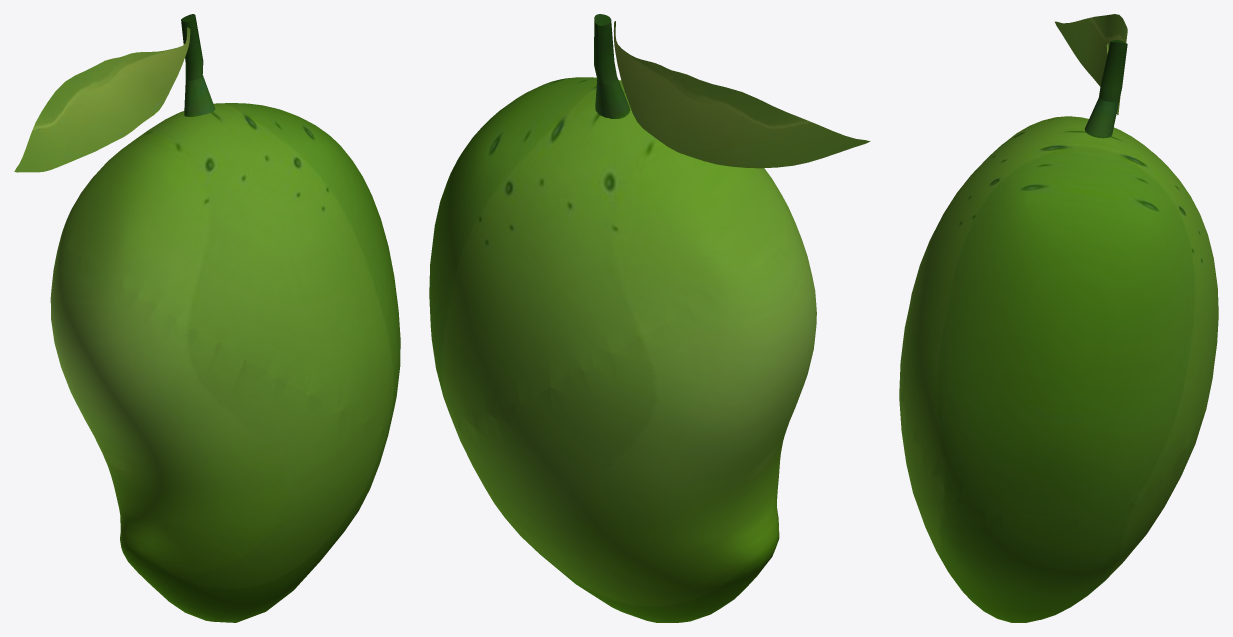
Rendered from kacha Amm.fbx.
The picture shows the model from 3 angles, left to right: view 1: azimuth 30°, elevation 25°; view 2: azimuth 150°, elevation 25°; view 3: azimuth 270°, elevation 25°; orthographic projection. The views are drawn at different scales.
Visible parts, largest first — view 1: green_mango, green_mango_cut_A, green_mango_cut_B; view 2: green_mango, green_mango_cut_A, green_mango_cut_B; view 3: green_mango, green_mango_cut_A, green_mango_cut_B.
Boxes of the visible parts, left/top/right/bottom form: green_mango: left=15, top=15, right=400, bottom=622; green_mango_cut_A: left=14, top=14, right=397, bottom=431; green_mango_cut_B: left=50, top=242, right=388, bottom=622; green_mango: left=430, top=14, right=868, bottom=622; green_mango_cut_A: left=429, top=14, right=870, bottom=429; green_mango_cut_B: left=456, top=234, right=816, bottom=622; green_mango: left=900, top=14, right=1217, bottom=622; green_mango_cut_A: left=900, top=21, right=1218, bottom=522; green_mango_cut_B: left=899, top=380, right=1210, bottom=622.
Size of the model in its own units: 896 by 1308 by 653.
Materials: 1 (1 with a texture image).
